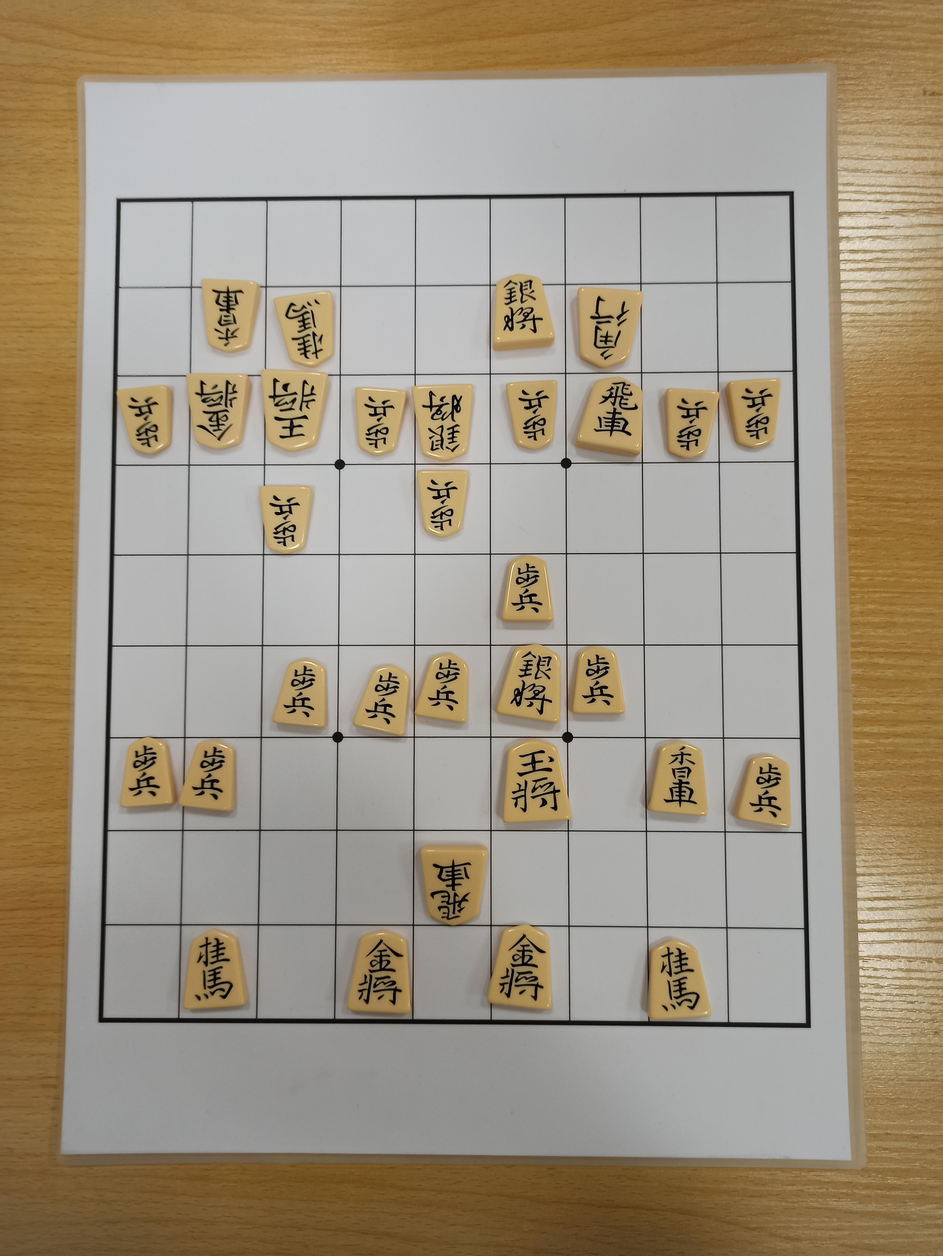board: (101, 194, 808, 1025)
